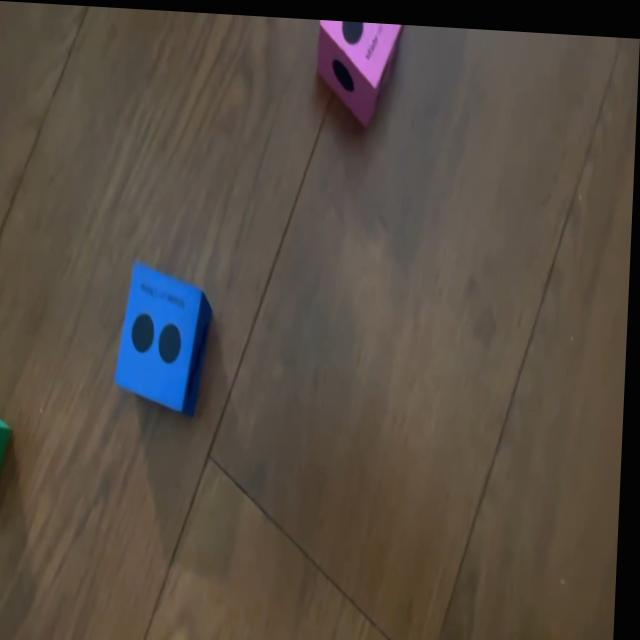blue_block: (120, 258, 215, 406)
